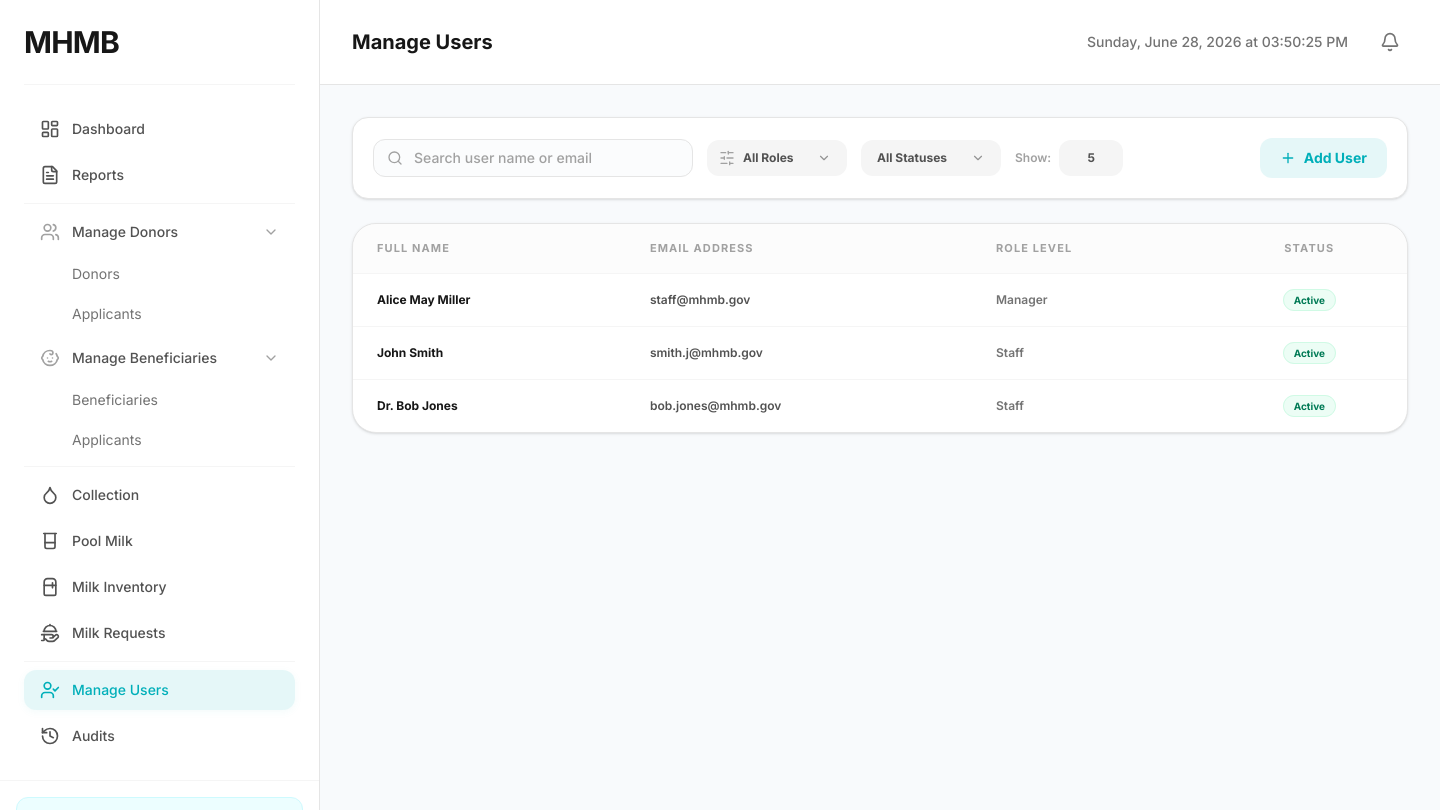
StaffUsersManagement Component (API Integrated) › formats backend validation errors to be user friendly
// Open detail modal for John Smith
Click the row with test id "row-U-UUID-002".
click(880, 352)  # box [353,326,1407,379]
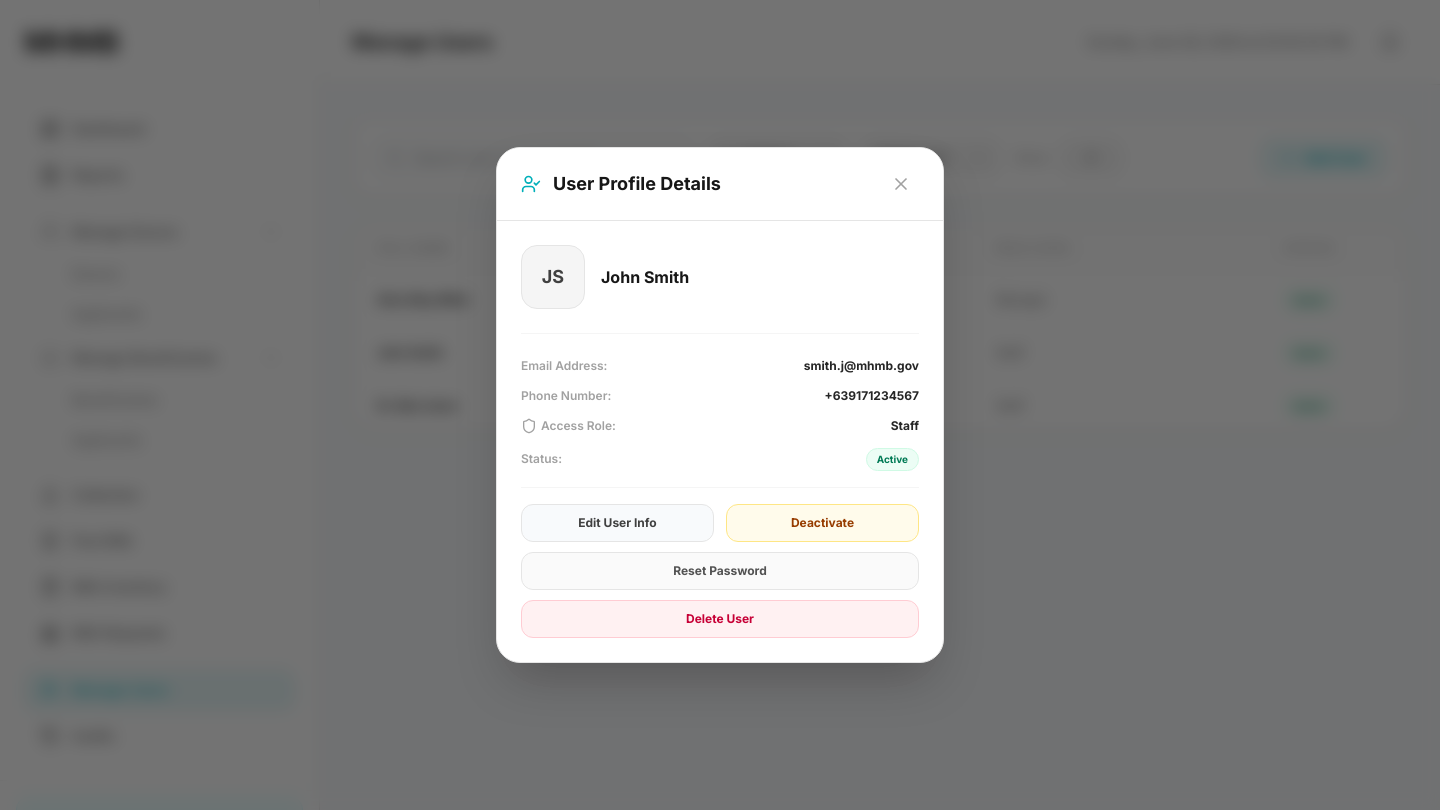
// Click Reset Password
Click the button with test id "reset-password-btn".
click(720, 571)  # box [521,552,919,590]
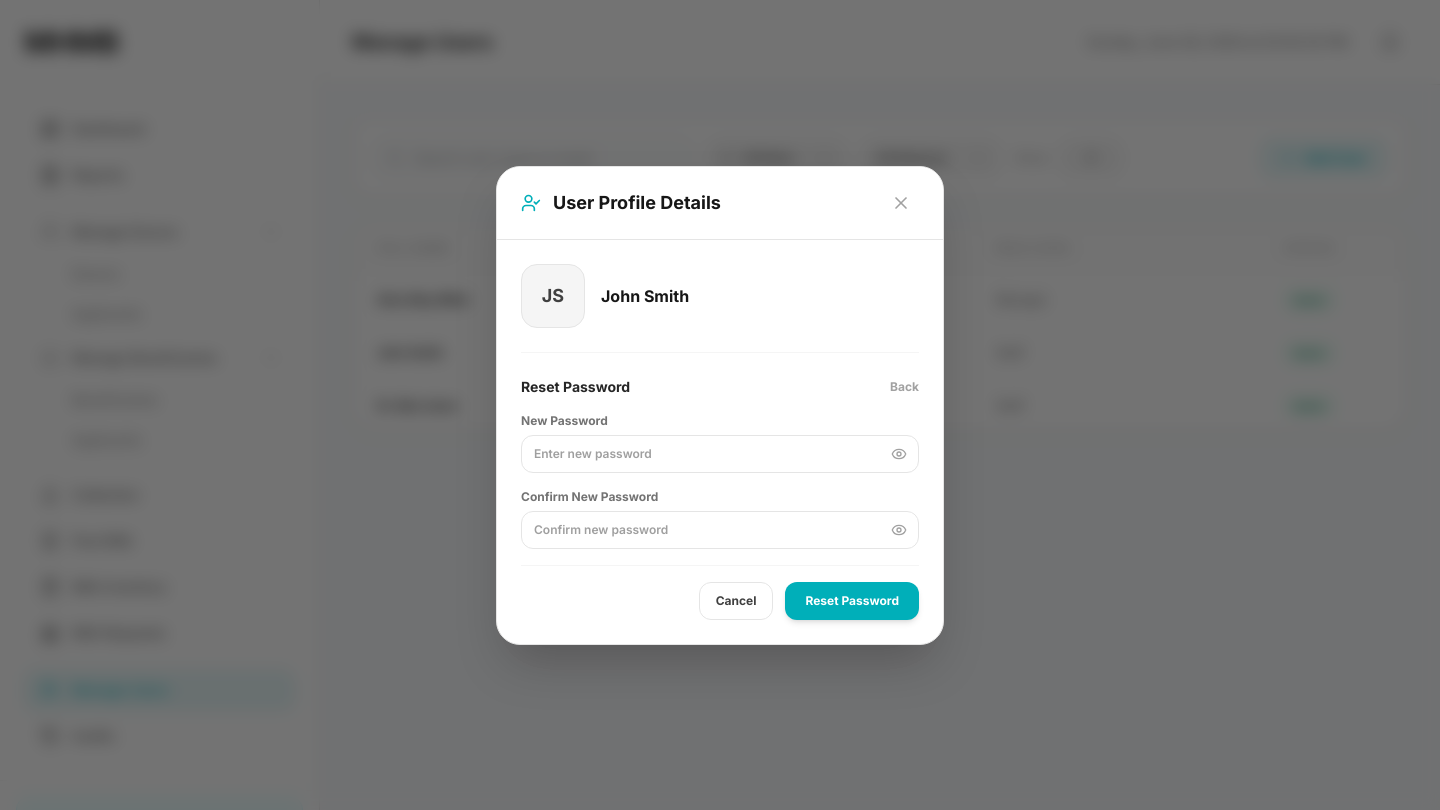
// Fill valid length mismatched or matched details
Type "password123" into the password field with test id "reset-password-input".
click(720, 454); type("password123")  # box [521,434,919,472]
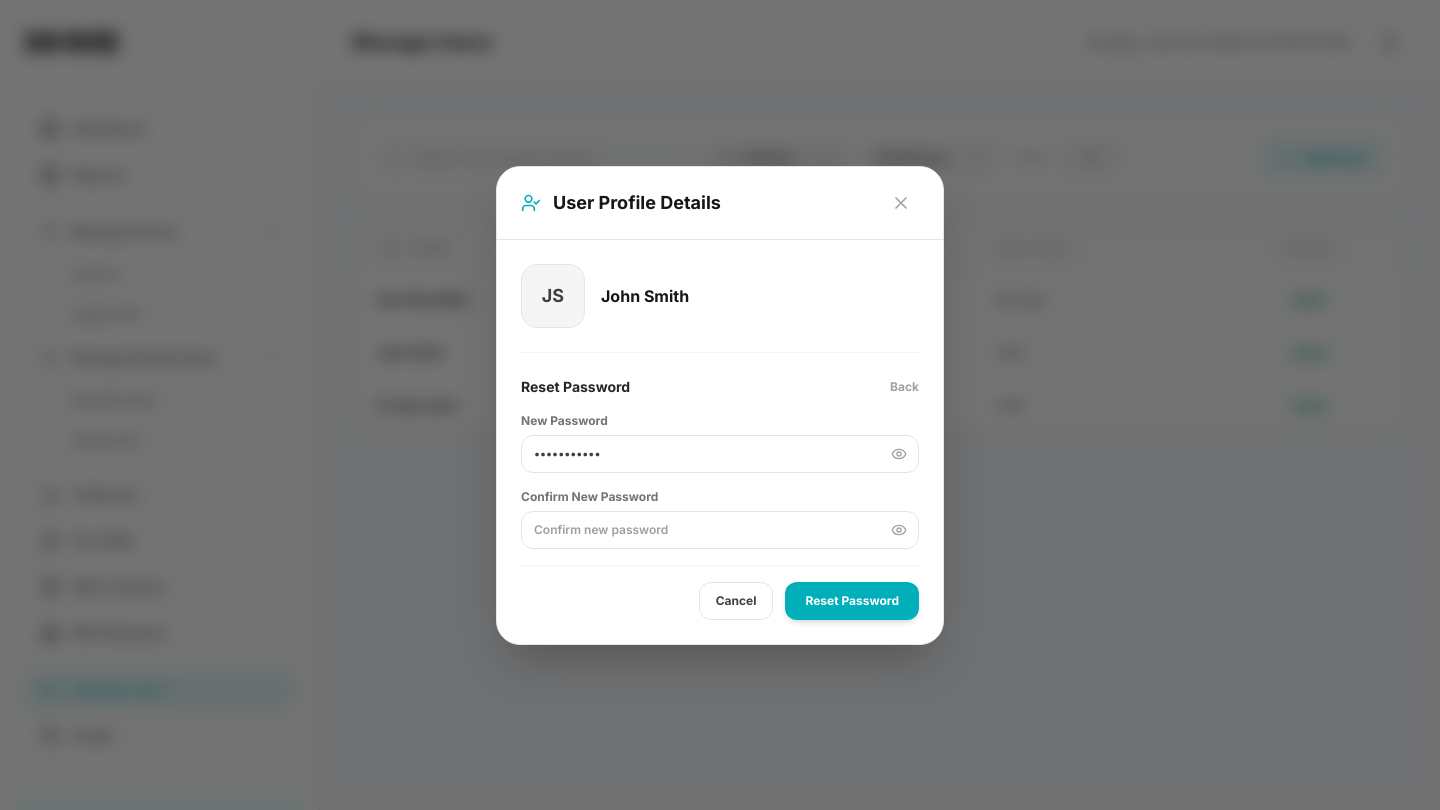
Type "password123" into the password field with test id "confirm-reset-password-input".
click(720, 530); type("password123")  # box [521,510,919,548]
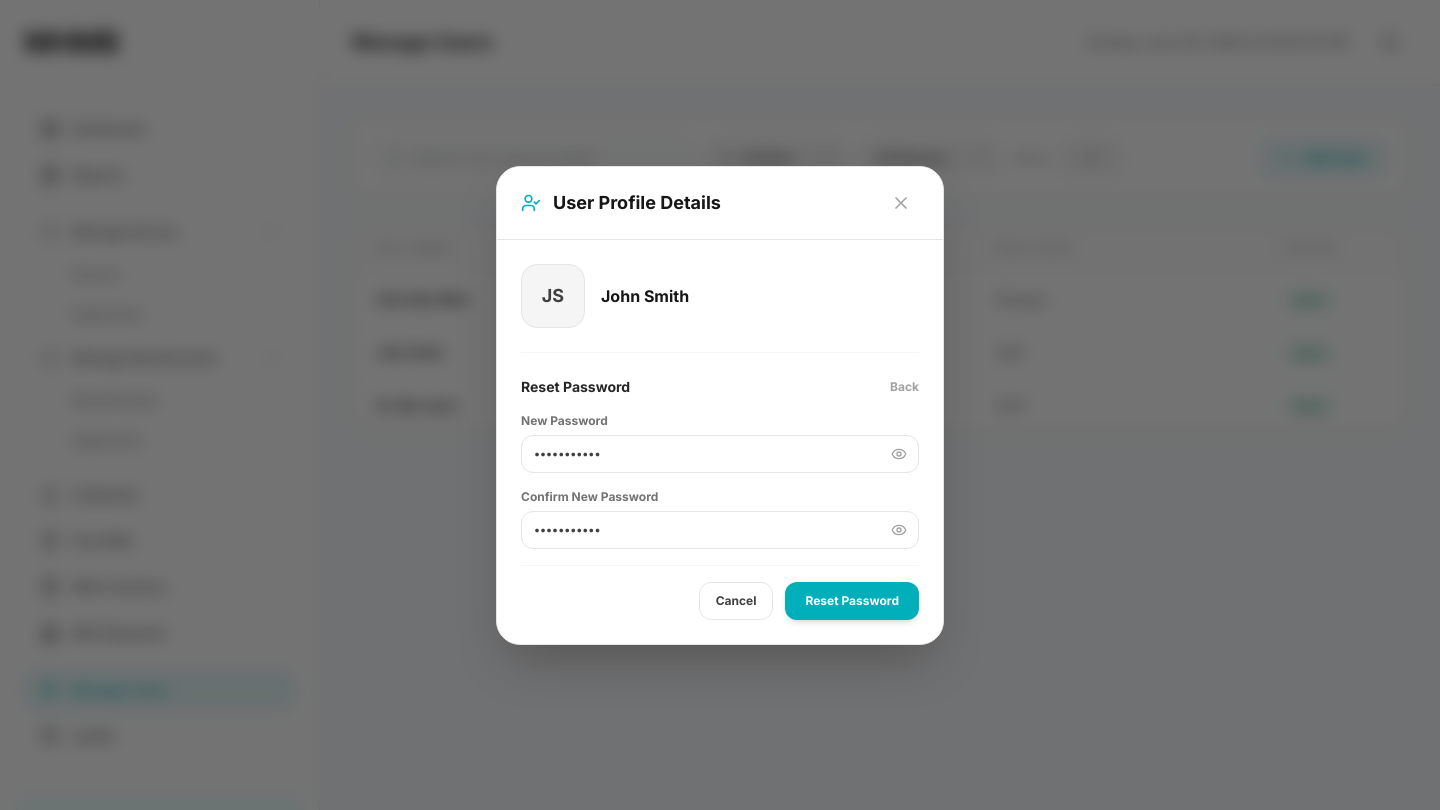
Submit the form from the button with test id "submit-reset-password-btn", box [785,582,919,620]
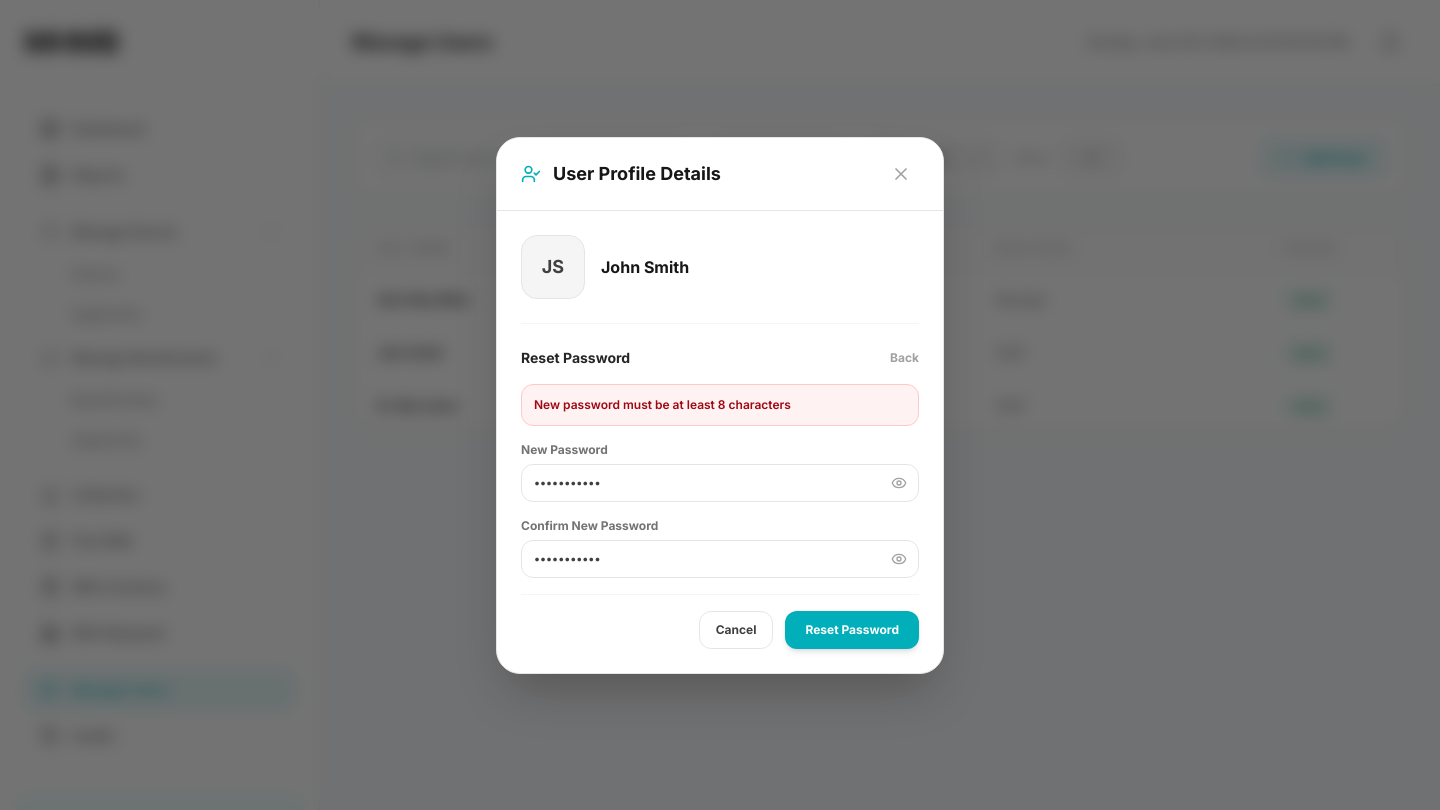
Check: the text with test id "reset-password-error" reads "New password must be at least 8 characters", box [534,396,791,412]
